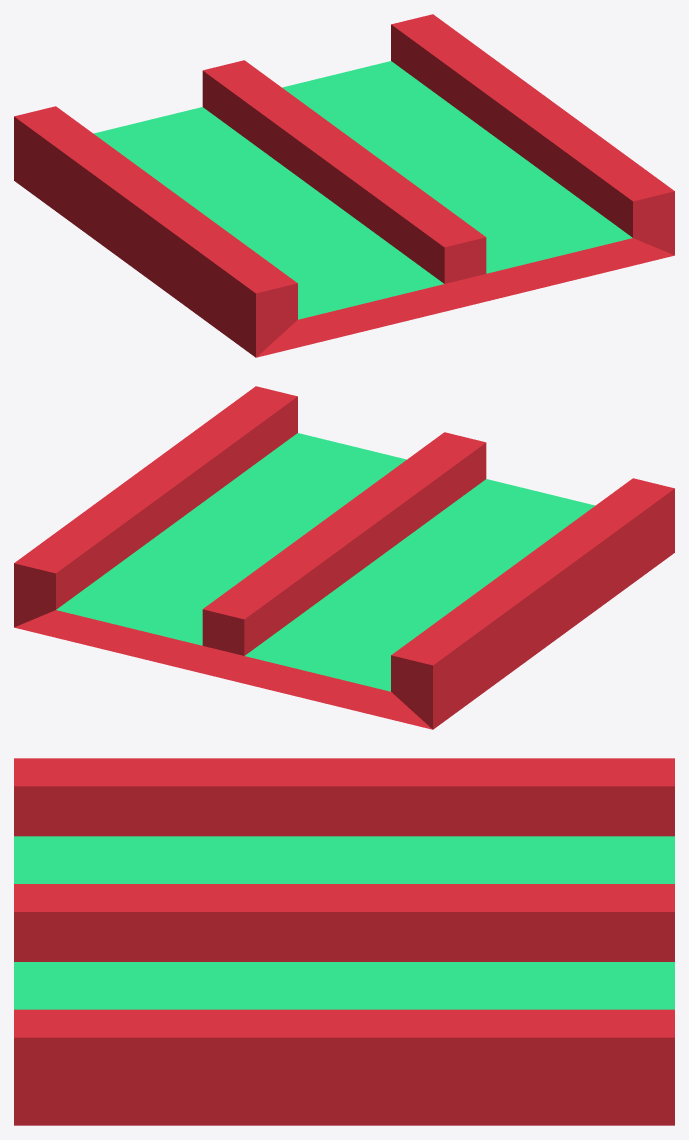
The model's file is split.fbx.
3 renders of one model, top to bottom at view 1: azimuth 30°, elevation 25°; view 2: azimuth 150°, elevation 25°; view 3: azimuth 270°, elevation 25°, orthographic. The views are drawn at different scales.
Visible parts, largest first — view 1: split; view 2: split; view 3: split.
Part boxes in pixels (x1,y1,x2,y2): split: [14, 14, 674, 357]; split: [14, 386, 674, 729]; split: [14, 758, 674, 1125].
Size of the model in its own units: 99.99 by 99.99 by 14.67.
